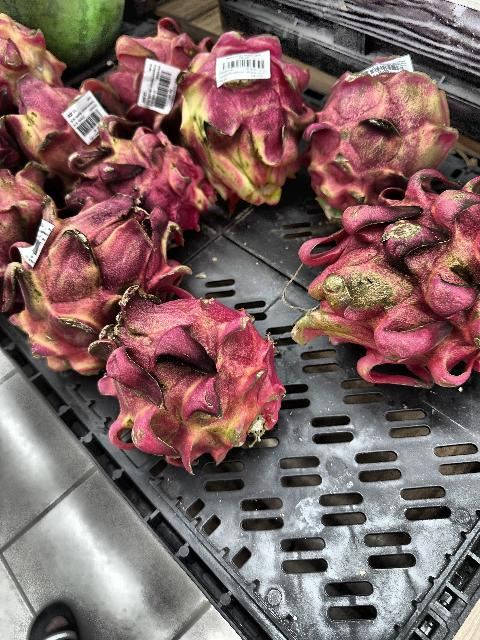buah-naga-belum-matang: (312, 161, 480, 361), (114, 299, 294, 467), (294, 43, 454, 205), (34, 203, 168, 361), (180, 34, 290, 200), (70, 138, 212, 234), (13, 74, 116, 172), (1, 152, 46, 290), (1, 7, 61, 93)
